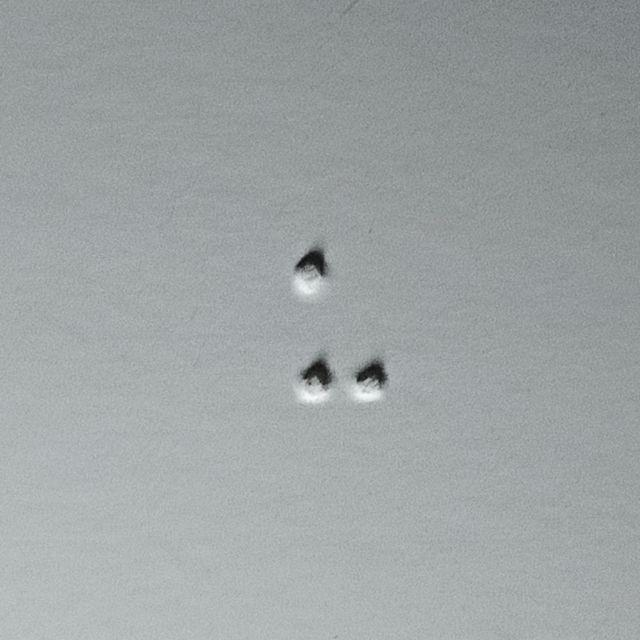upang: (295, 250, 392, 400)
